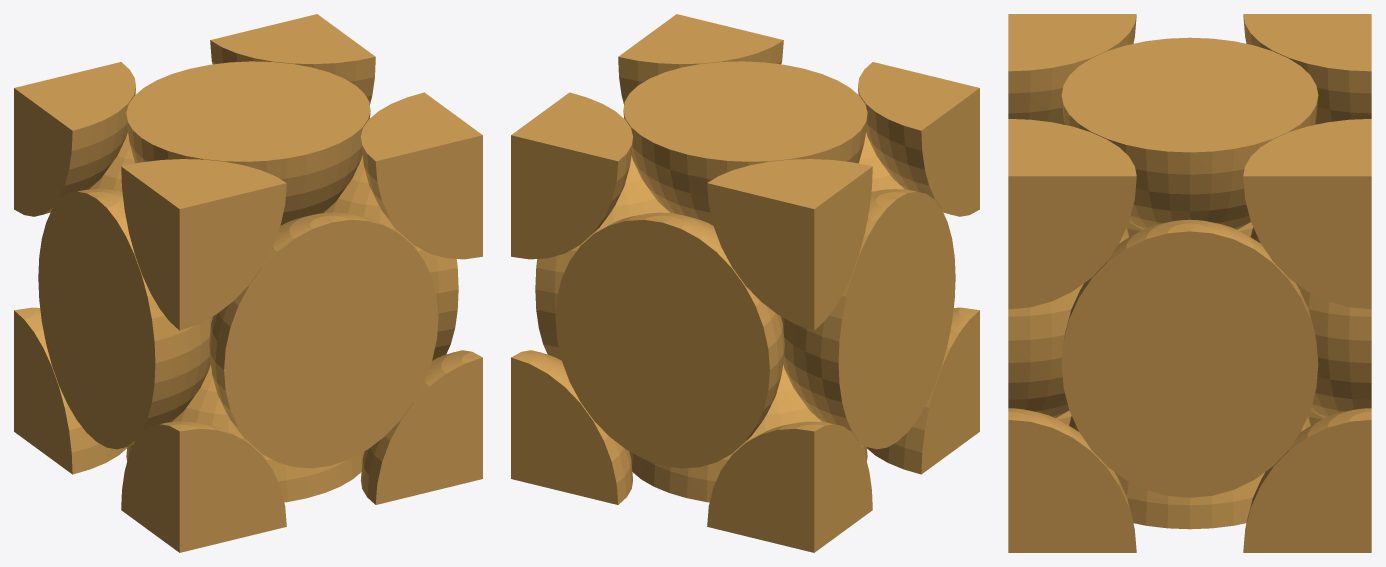
The model's file is Copy of Cúbica Centrada Caras_cortada.glb.
3 renders of one model, left to right at view 1: azimuth 30°, elevation 25°; view 2: azimuth 150°, elevation 25°; view 3: azimuth 270°, elevation 25°, orthographic. The views are drawn at different scales.
Parts seen in each view (by area): view 1: Mesh_Mesh_head_geo.001_lambert2SG.001; view 2: Mesh_Mesh_head_geo.001_lambert2SG.001; view 3: Mesh_Mesh_head_geo.001_lambert2SG.001.
Part boxes in pixels (bbox=[...]): Mesh_Mesh_head_geo.001_lambert2SG.001: bbox=[14, 14, 482, 552]; Mesh_Mesh_head_geo.001_lambert2SG.001: bbox=[511, 14, 979, 552]; Mesh_Mesh_head_geo.001_lambert2SG.001: bbox=[1008, 14, 1371, 552].
Bounding box in the file's own units: 20.36 × 22.06 × 19.26.
